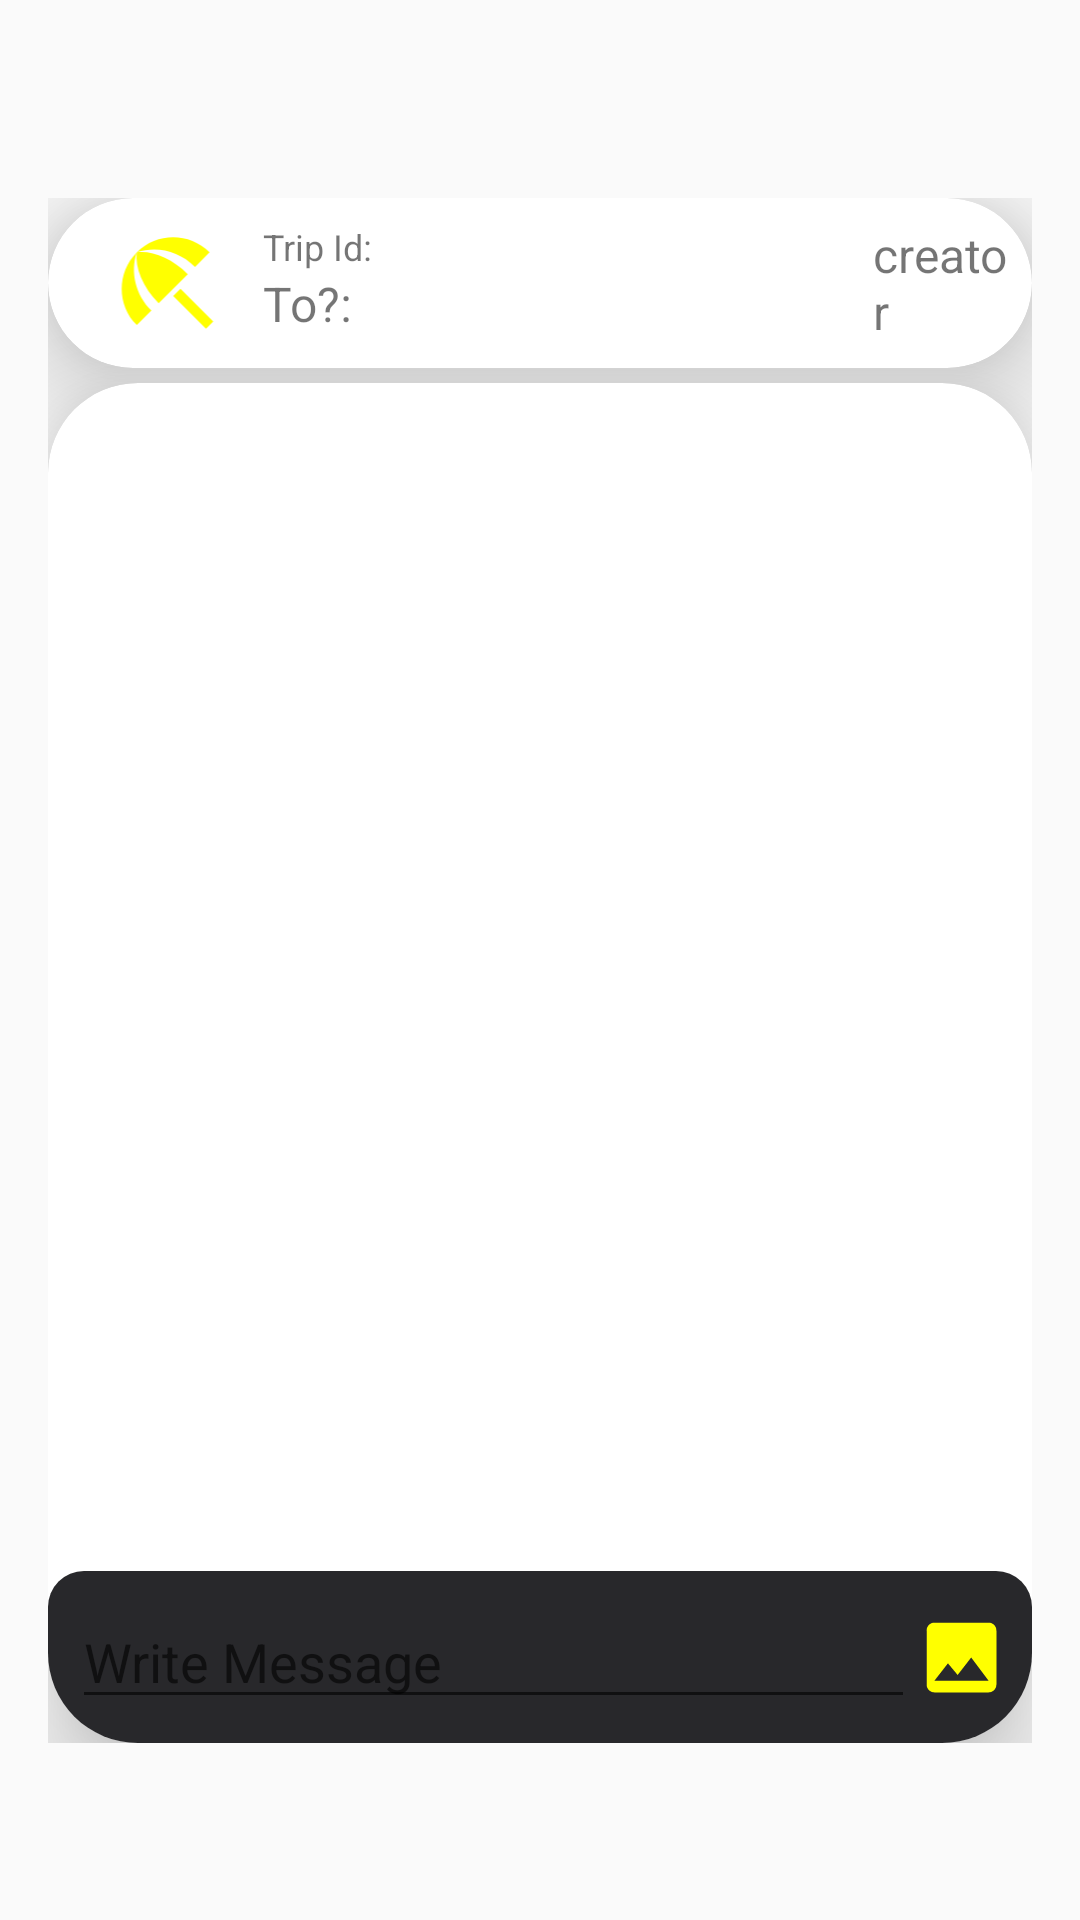

Screen size 1080×1920. Icon name, then its center in pixels as (x=x, y=y):
beach: (x=167, y=283)
photo: (x=961, y=1657)
